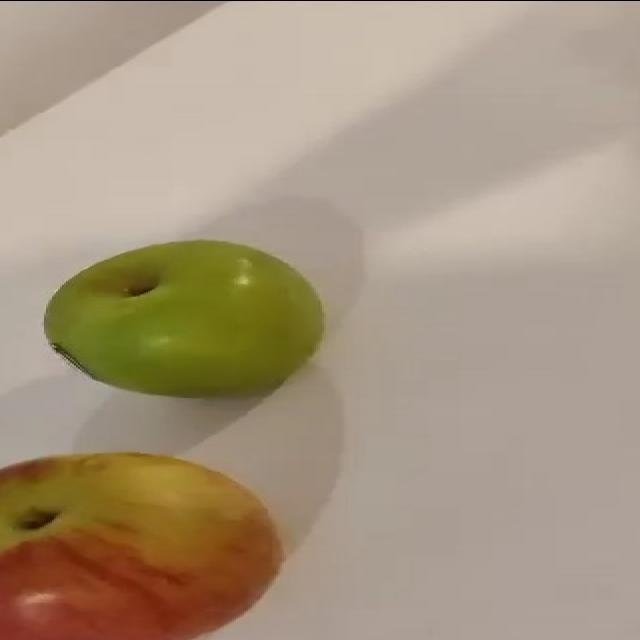Apple: (0, 446, 289, 640), (42, 238, 327, 400)
